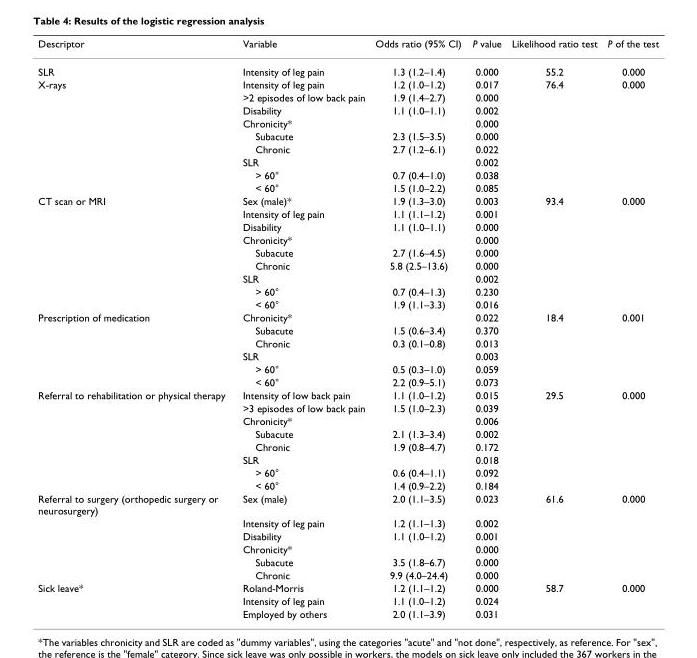table: (37, 37, 658, 619)
table column: (37, 37, 233, 619), (233, 37, 369, 619), (369, 37, 466, 619), (505, 37, 601, 619), (601, 37, 658, 619), (466, 37, 505, 619)
table column header: (37, 37, 658, 57)
table row: (37, 491, 658, 516), (37, 37, 658, 57), (37, 57, 658, 77), (37, 77, 658, 90), (37, 90, 658, 103), (37, 103, 658, 116), (37, 116, 658, 129), (37, 129, 658, 142), (37, 142, 658, 155), (37, 155, 658, 168), (37, 168, 658, 181), (37, 181, 658, 194), (37, 206, 658, 219), (37, 219, 658, 232), (37, 232, 658, 245), (37, 245, 658, 258), (37, 258, 658, 271), (37, 271, 658, 284), (37, 284, 658, 297), (37, 297, 658, 310), (37, 310, 658, 323), (37, 323, 658, 336), (37, 336, 658, 349), (37, 349, 658, 362), (37, 362, 658, 375), (37, 375, 658, 388), (37, 388, 658, 401), (37, 401, 658, 414), (37, 426, 658, 439), (37, 439, 658, 452), (37, 452, 658, 465), (37, 465, 658, 478), (37, 478, 658, 491), (37, 516, 658, 529), (37, 529, 658, 542), (37, 542, 658, 555), (37, 555, 658, 568), (37, 568, 658, 581), (37, 581, 658, 594), (37, 606, 658, 619), (37, 194, 658, 206), (37, 414, 658, 426), (37, 594, 658, 606)
table spanning cell: (37, 77, 233, 194), (37, 194, 233, 310), (37, 388, 233, 491), (37, 491, 233, 581), (37, 310, 233, 388), (37, 581, 233, 619)
